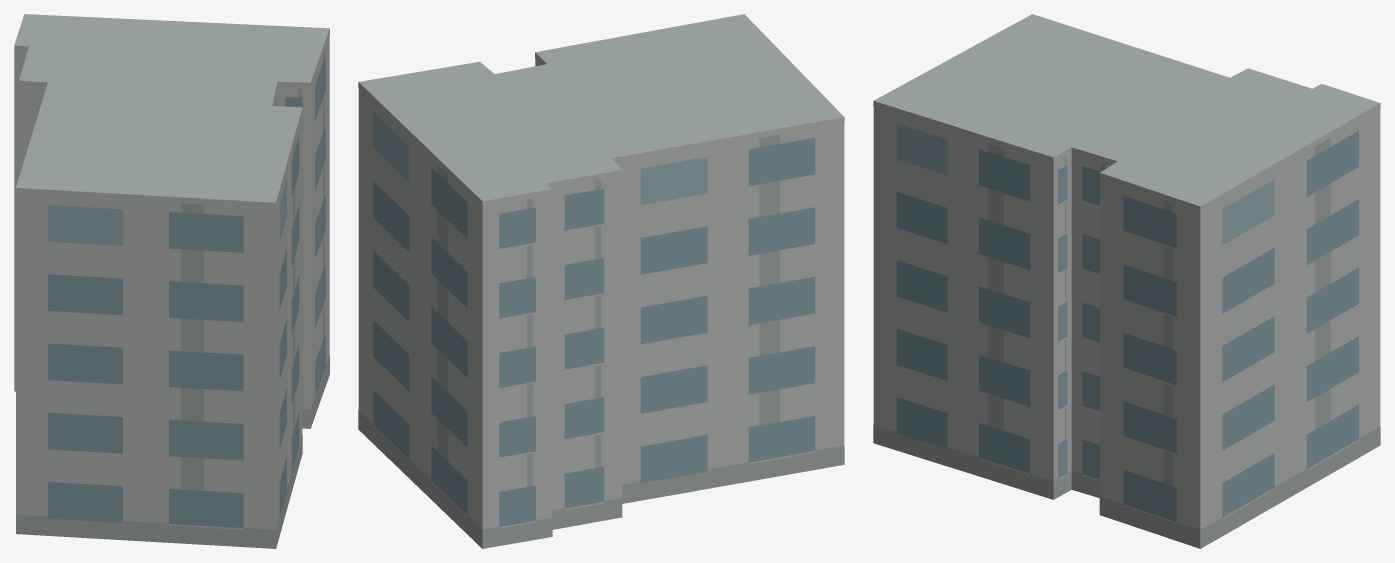
File: survey-upis-32907731.glb
The picture shows the model from 3 angles, left to right: view 1: azimuth 30°, elevation 25°; view 2: azimuth 150°, elevation 25°; view 3: azimuth 270°, elevation 25°; orthographic projection.
Visible parts, largest first — view 1: survey-upis-32907731.tmp; view 2: survey-upis-32907731.tmp; view 3: survey-upis-32907731.tmp.
Boxes of the visible parts, x1,y1,x2,y2 form: survey-upis-32907731.tmp: [14, 14, 329, 548]; survey-upis-32907731.tmp: [358, 14, 844, 548]; survey-upis-32907731.tmp: [873, 14, 1380, 548].
Bounding box in the file's own units: 17.18 × 14.24 × 19.12.
